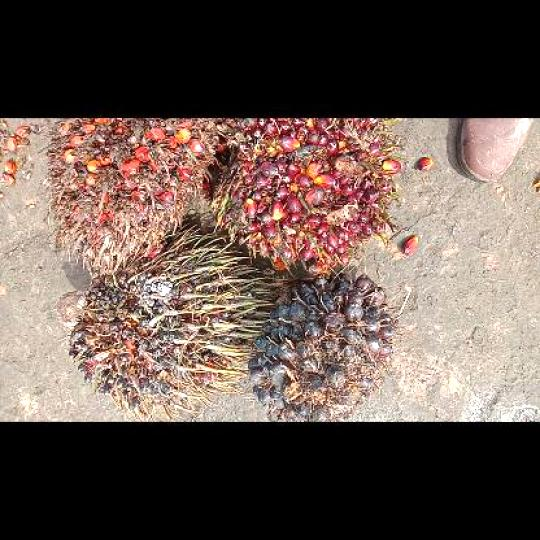masak: (221, 117, 402, 272)
terlalu masak: (49, 117, 221, 280)
